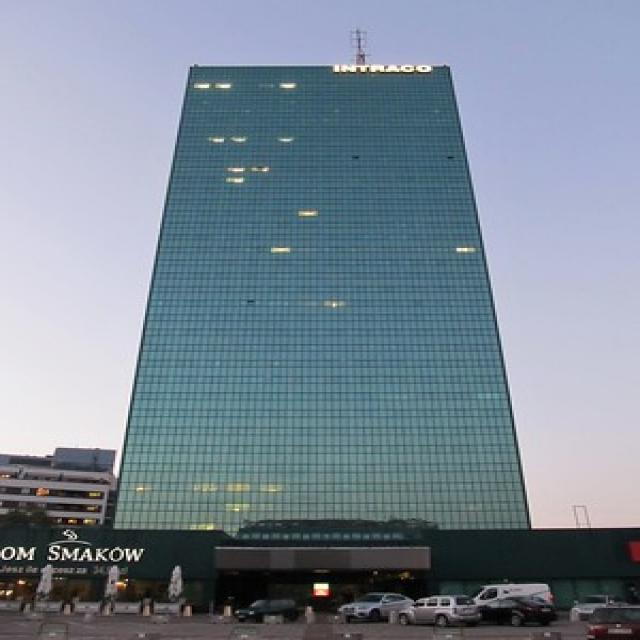Normal_building: (104, 60, 534, 561)
